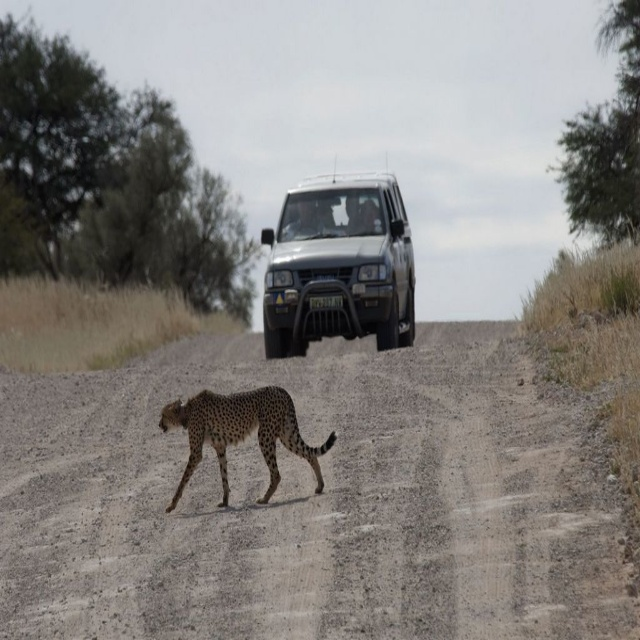Cheetah: (158, 379, 339, 515)
